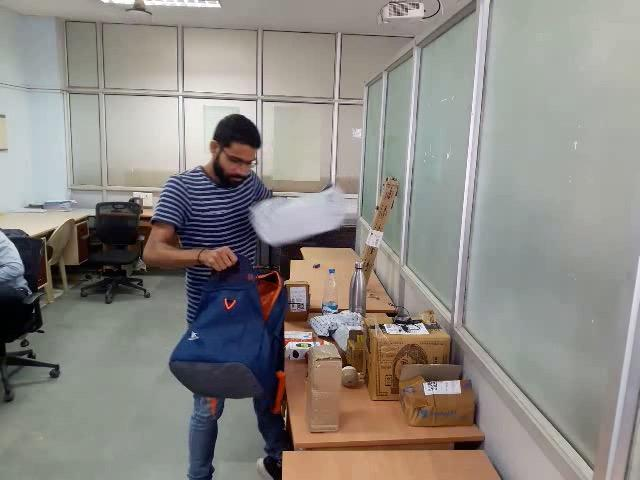shoplifting: (163, 173, 363, 417)
